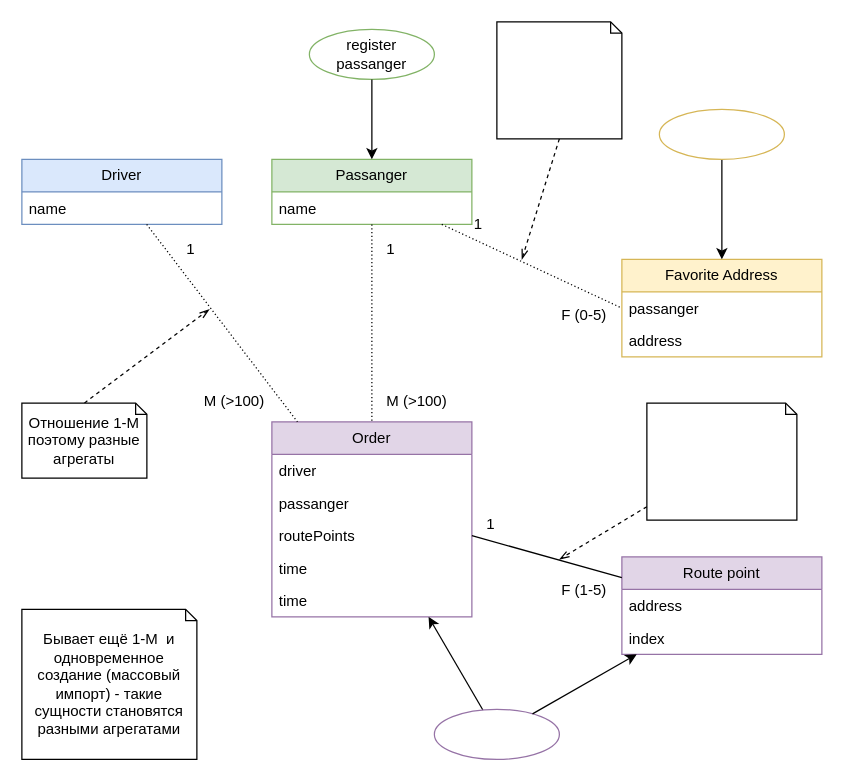
This 844x781 diagram has some shape labels left out. The centre of each missing label's shape, as x and y in pixels:
"add favorite address" belongs at (x=721, y=133).
"place order" belongs at (x=496, y=733).
"Отношение 1-F и создаются одновременно, поэтому один агрегат" belongs at (x=721, y=461).
"Отношение 1-F, но создаются в разне время, поэтому разные агрегаты" belongs at (x=559, y=80).
